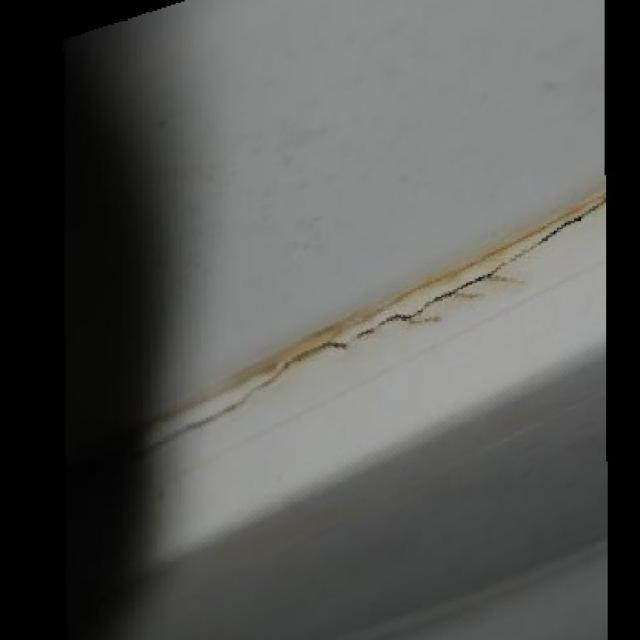crack: (320, 318, 425, 347), (541, 201, 607, 244), (434, 267, 503, 300)
